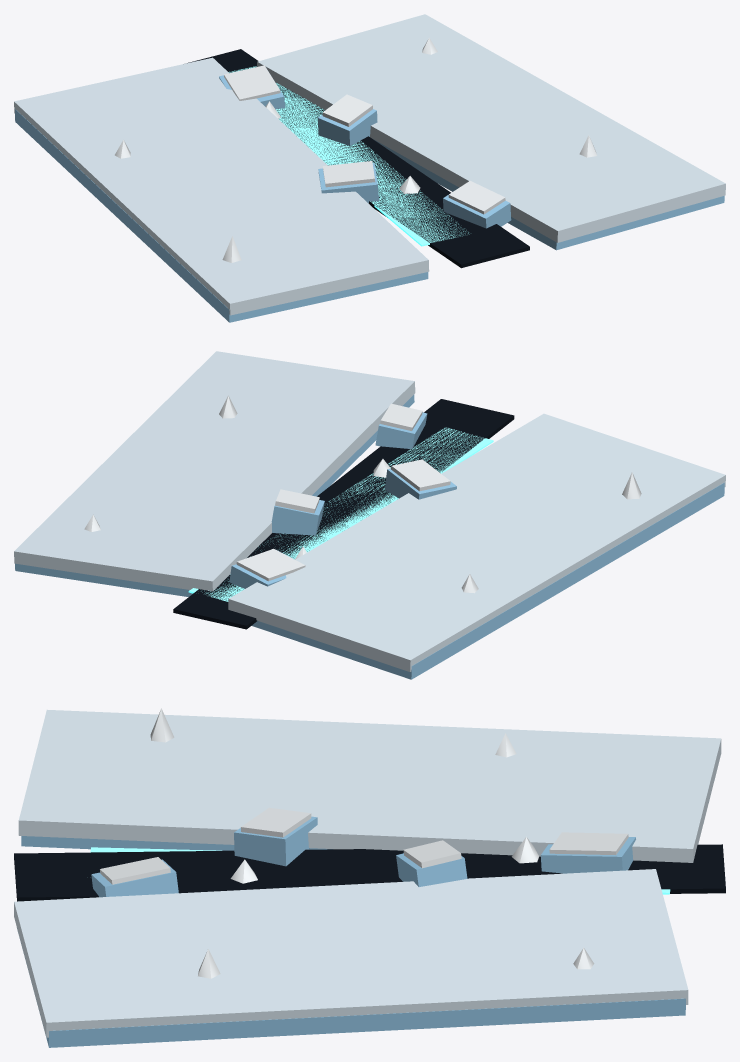
Rendered from broken-ice-original.glb.
The picture shows the model from 3 angles, top to bottom: view 1: azimuth 30°, elevation 25°; view 2: azimuth 150°, elevation 25°; view 3: azimuth 270°, elevation 25°; orthographic projection. The views are drawn at different scales.
Parts seen in each view (by area): view 1: OriginalBrokenIce; view 2: OriginalBrokenIce; view 3: OriginalBrokenIce.
Part boxes in pixels (x1=…): OriginalBrokenIce: x1=14, y1=14, x2=725, y2=322; OriginalBrokenIce: x1=14, y1=351, x2=725, y2=679; OriginalBrokenIce: x1=14, y1=708, x2=725, y2=1047.
Bounding box in the file's own units: 7.08 × 0.6103 × 6.83.
